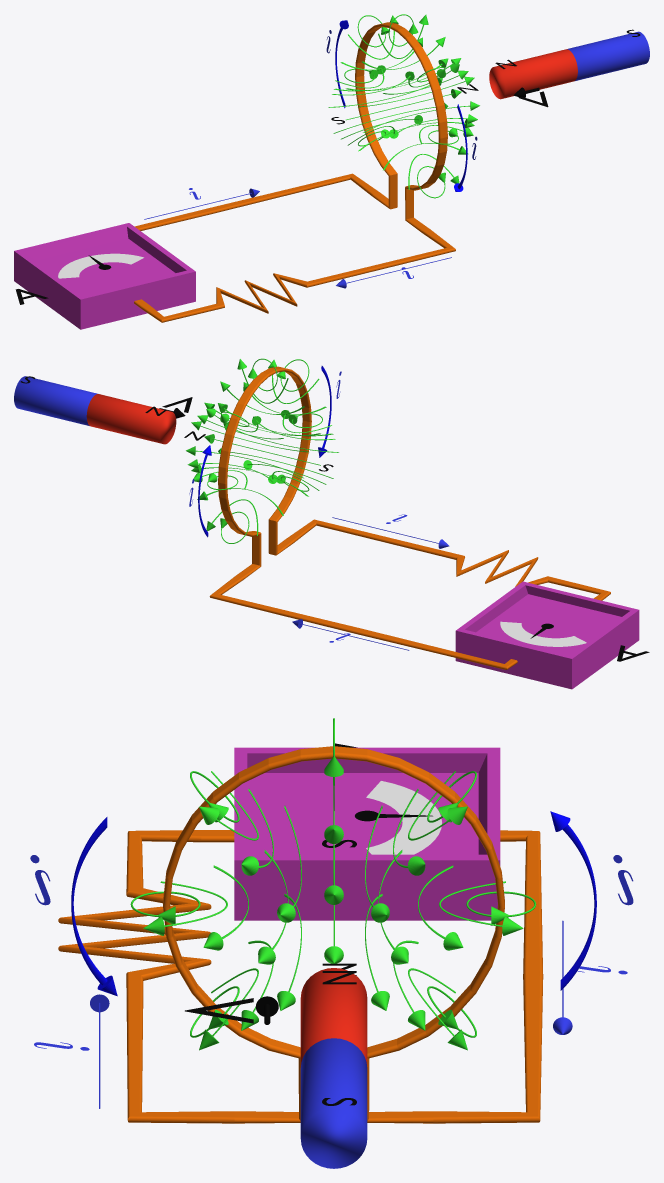
File: exp2l.glb
The picture shows the model from 3 angles, top to bottom: view 1: azimuth 30°, elevation 25°; view 2: azimuth 150°, elevation 25°; view 3: azimuth 270°, elevation 25°; orthographic projection. The views are drawn at different scales.
Visible parts, largest first — view 1: Cube, Circle, Cylinder.001, Cylinder, Torus.001; view 2: Cube, Circle, Cylinder.001, Cylinder, Torus.001; view 3: Cube, Circle, Cylinder, Cylinder.001, Torus.001, NurbsCurve.022, NurbsCurve.023.
Boxes of the visible parts, left/top/right/bottom form: Cube: left=14, top=223, right=195, bottom=329; Circle: left=134, top=22, right=455, bottom=322; Cylinder.001: left=489, top=49, right=577, bottom=99; Cylinder: left=567, top=31, right=649, bottom=80; Torus.001: left=58, top=253, right=143, bottom=278; Cube: left=455, top=581, right=639, bottom=689; Circle: left=209, top=366, right=610, bottom=669; Cylinder.001: left=86, top=394, right=176, bottom=444; Cylinder: left=14, top=376, right=97, bottom=425; Torus.001: left=500, top=621, right=586, bottom=646; Cube: left=234, top=747, right=500, bottom=920; Circle: left=58, top=746, right=543, bottom=1123; Cylinder: left=300, top=1038, right=367, bottom=1168; Cylinder.001: left=300, top=968, right=367, bottom=1067; Torus.001: left=366, top=781, right=441, bottom=854; NurbsCurve.022: left=71, top=817, right=107, bottom=985; NurbsCurve.023: left=560, top=824, right=596, bottom=990.
Bounding box in the file's own units: 43.13 × 14.09 × 18.12.
